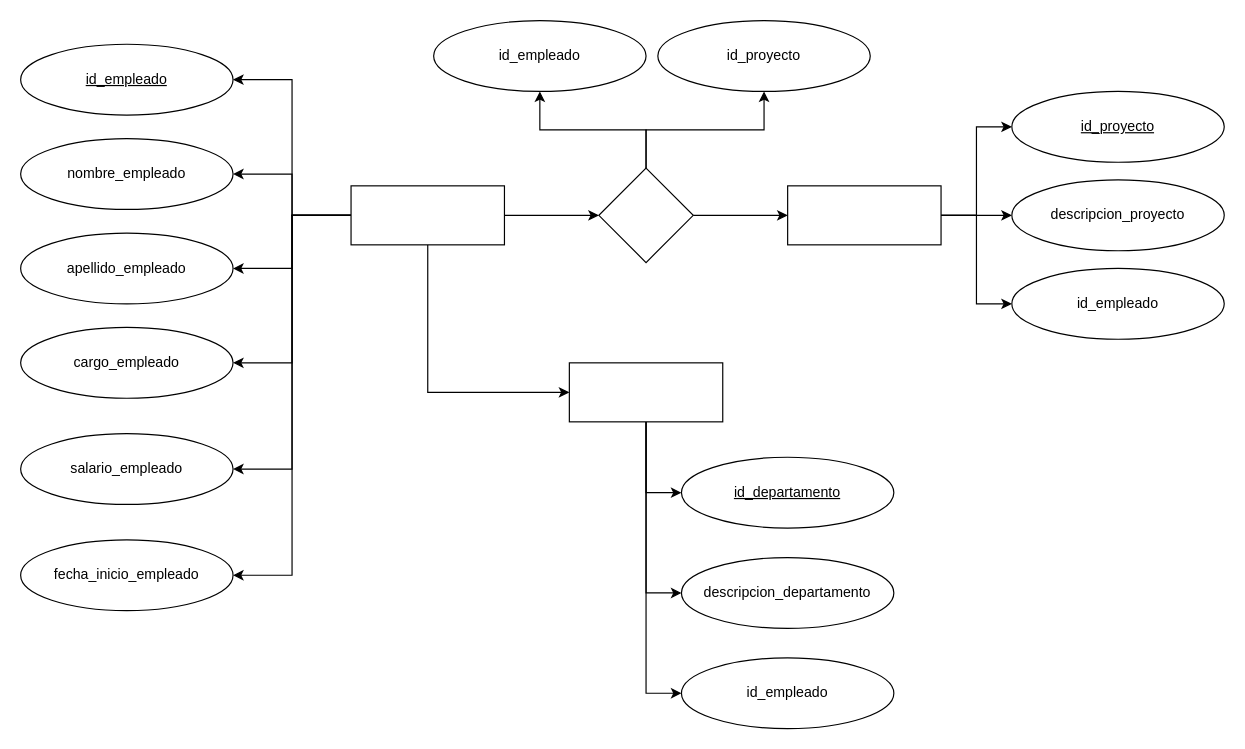
Image size: 1245x749. Some labels were removed from this diagram. Each missing label, with the centre of its shape:
Departamentos: point 645,392
Empleados: point 427,215
Proyectos: point 863,215
tiene: point 645,215
